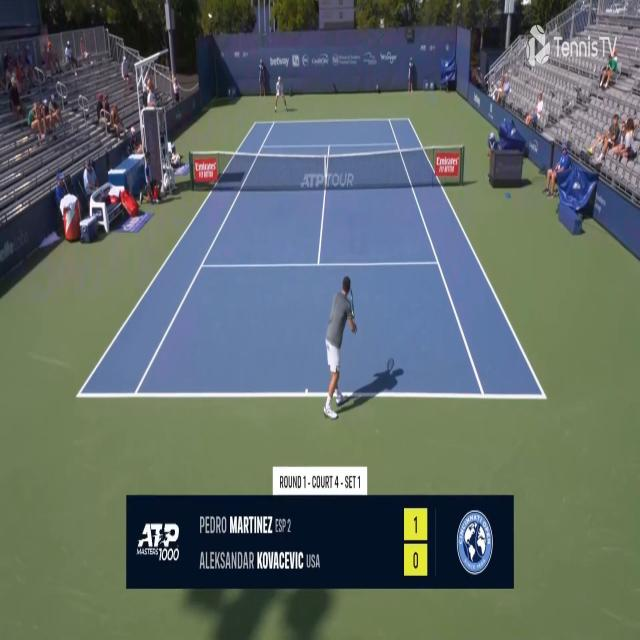tennis-player: (322, 272, 359, 424), (273, 76, 289, 114)
